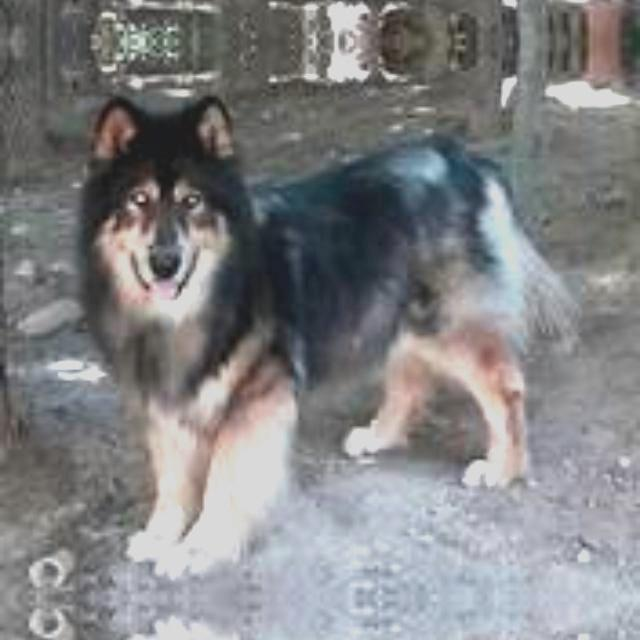dog: (59, 98, 564, 584), (60, 610, 565, 640)
